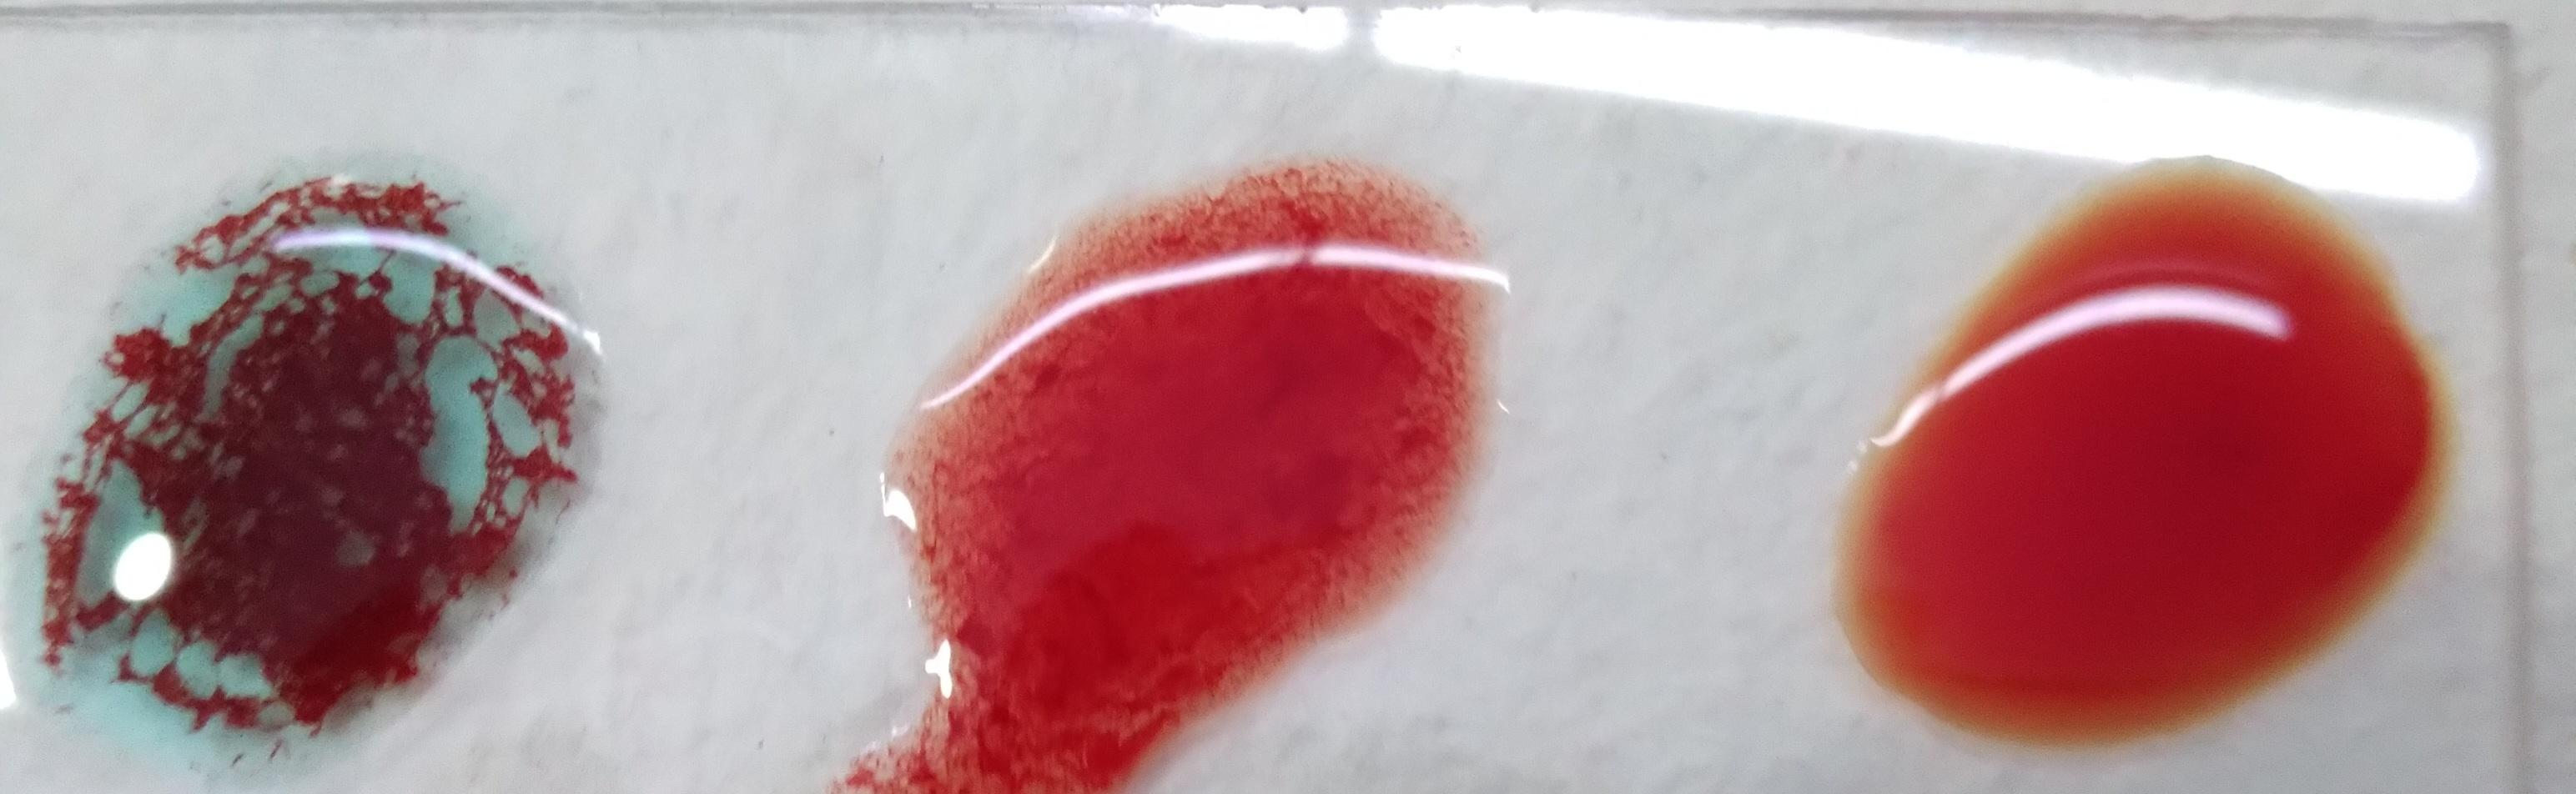A: (1998, 12, 2512, 633)
D: (1096, 23, 1654, 620)
